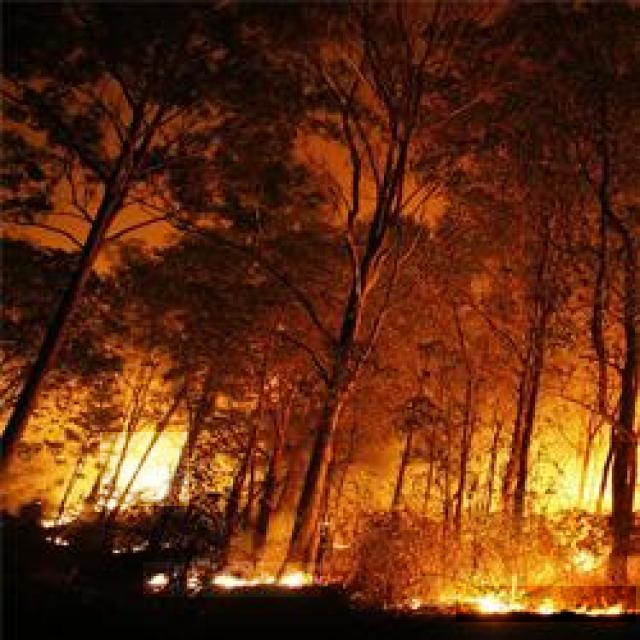Fire: (538, 442, 640, 556), (100, 432, 189, 506), (456, 586, 636, 622), (143, 562, 321, 597)
